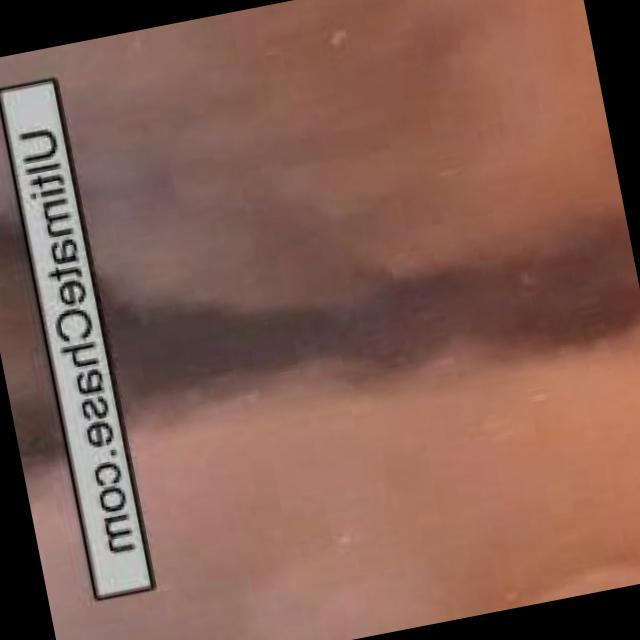Fire: (323, 1, 605, 154), (449, 466, 640, 613)
